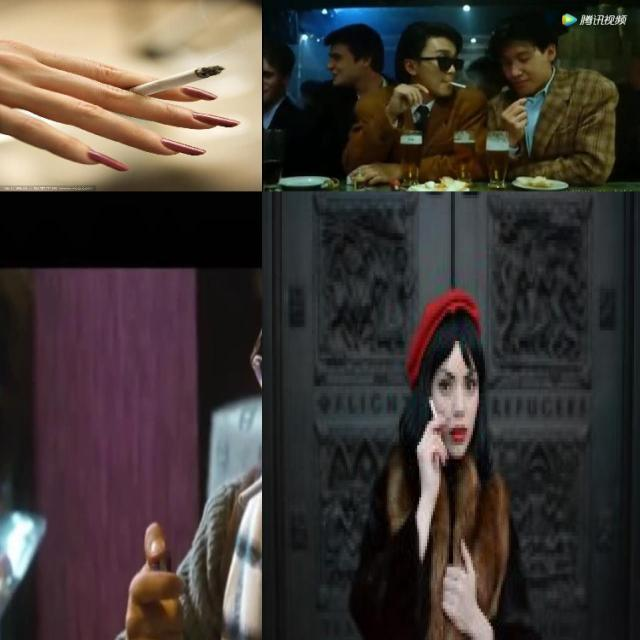smoking: (128, 64, 228, 98), (236, 456, 262, 508), (427, 397, 440, 422), (445, 76, 467, 90)
